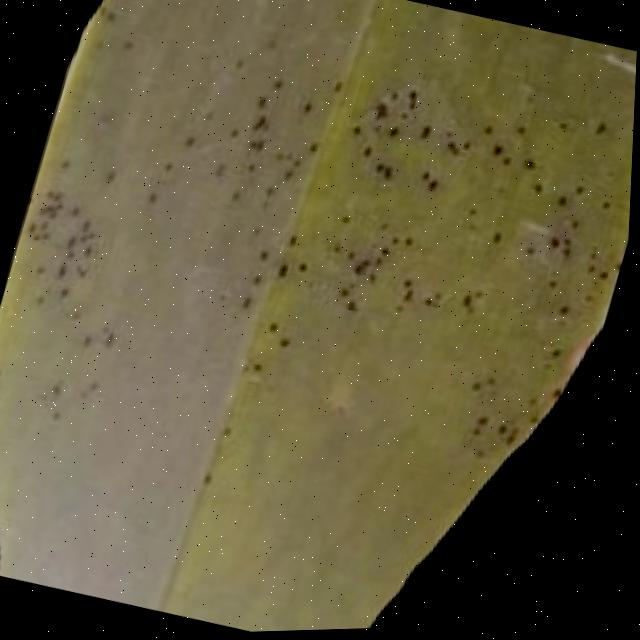mite: (230, 52, 635, 477), (373, 160, 401, 185), (296, 255, 321, 279), (279, 261, 296, 282), (269, 318, 288, 336), (280, 334, 299, 352), (299, 260, 315, 276)
